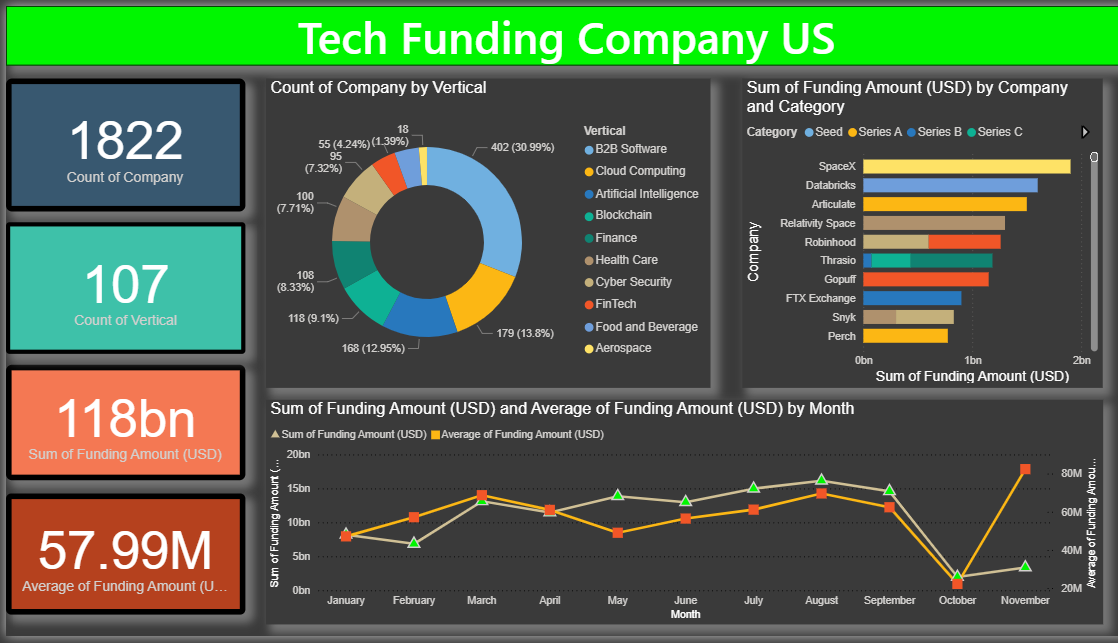

What the dashboard file says about the page in this screenshot:
{"tool":"powerbi","page":{"name":"Page 1","canvas":[1280,720],"ordinal":0},"visuals":[{"type":"textbox","title":"Tech Funding Company US","box":[0,0,1280,68.3],"z":0},{"type":"card","fields":{"Values":["Sum(Company Fundings US.Funding Amount (USD))"]},"box":[0,410,273.3,131.7],"z":1000},{"type":"card","title":"Total Seluruh Perusahaan","fields":{"Values":["Count(Company Fundings US.Company)"]},"box":[0,83.3,273.3,151.7],"z":2000},{"type":"card","title":"PERHITUNGAN KATEGORI ","fields":{"Values":["Count(Company Fundings US.Vertical)"]},"box":[0,246.7,273.3,150],"z":3000},{"type":"card","fields":{"Values":["Avg(Company Fundings US.Funding Amount (USD))"]},"box":[0,556.7,273.3,138.3],"z":4000},{"type":"barChart","fields":{"Category":["Company Fundings US.Company"],"Y":["Sum(Company Fundings US.Funding Amount (USD))"],"Series":["Company Fundings US.Funding Stage"]},"box":[841.7,83.3,411.7,353.3],"z":5000},{"type":"donutChart","fields":{"Category":["Company Fundings US.Vertical"],"Y":["CountNonNull(Company Fundings US.Company)"]},"box":[296.7,83.3,508.3,353.3],"z":6000},{"type":"lineChart","fields":{"Category":["Company Fundings US.Funding Date.Variation.Date Hierarchy.Month","Company Fundings US.Funding Date.Variation.Date Hierarchy.Day"],"Y":["Sum(Company Fundings US.Funding Amount (USD))"],"Y2":["Avg(Company Fundings US.Funding Amount (USD))"]},"box":[296.7,450,956.7,256.7],"z":7000}]}

Visuals, with their boxes in screenshot pixels (x1, y1, x2, y2), scaled from the page's 1280x720 canvas onto the 1118x643 screenshot:
"Tech Funding Company US" textbox: {"left": 0, "top": 0, "right": 1117, "bottom": 61}
card - Sum(Company Fundings US.Funding Amount (USD)): {"left": 0, "top": 366, "right": 239, "bottom": 484}
"Total Seluruh Perusahaan" card: {"left": 0, "top": 74, "right": 239, "bottom": 210}
"PERHITUNGAN KATEGORI " card: {"left": 0, "top": 220, "right": 239, "bottom": 354}
card - Avg(Company Fundings US.Funding Amount (USD)): {"left": 0, "top": 497, "right": 239, "bottom": 621}
barChart - Company Fundings US.Company x Sum(Company Fundings US.Funding Amount (USD)): {"left": 735, "top": 74, "right": 1095, "bottom": 390}
donutChart - Company Fundings US.Vertical x CountNonNull(Company Fundings US.Company): {"left": 259, "top": 74, "right": 703, "bottom": 390}
lineChart - Company Fundings US.Funding Date.Variation.Date Hierarchy.Month x Company Fundings US.Funding Date.Variation.Date Hierarchy.Day: {"left": 259, "top": 402, "right": 1095, "bottom": 631}
